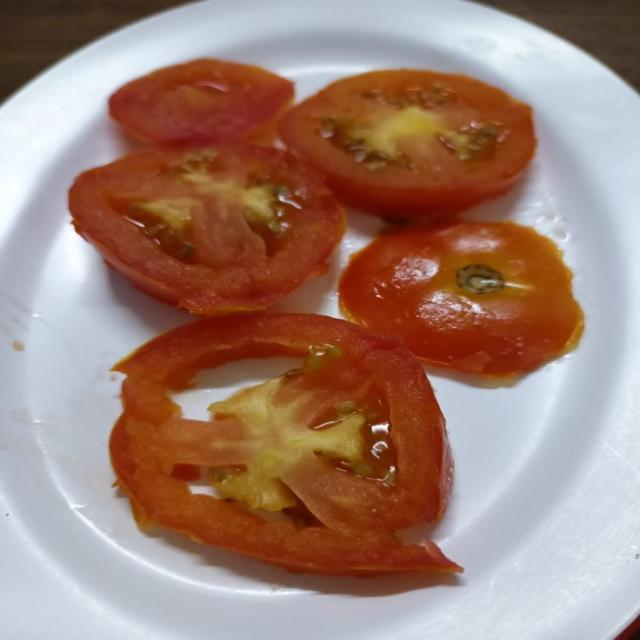sliced tomatoe: (111, 314, 459, 575), (69, 143, 344, 314), (280, 70, 535, 217), (340, 222, 582, 376), (109, 59, 293, 144)
